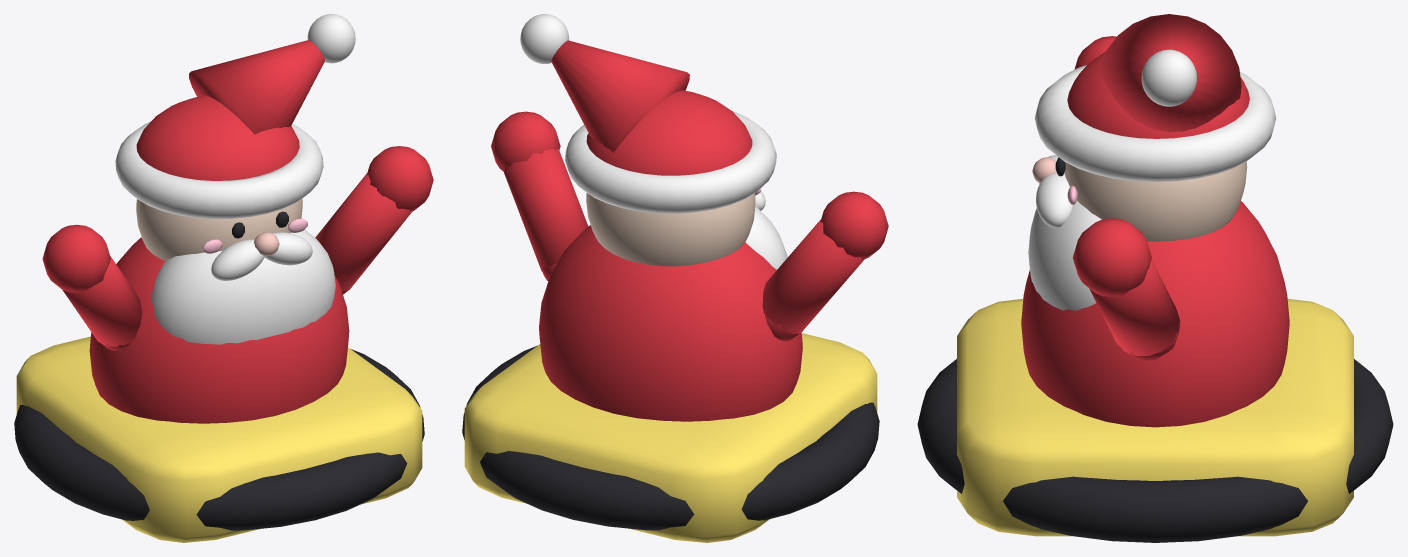
The model's file is bumper.glb.
The picture shows the model from 3 angles, left to right: view 1: azimuth 30°, elevation 25°; view 2: azimuth 150°, elevation 25°; view 3: azimuth 270°, elevation 25°; orthographic projection. The views are drawn at different scales.
Parts seen in each view (by area): view 1: bumper_red, bumper_yellow, bumper_white, bumper_black, bumper_skin; view 2: bumper_red, bumper_yellow, bumper_black, bumper_white, bumper_skin; view 3: bumper_red, bumper_yellow, bumper_black, bumper_white, bumper_skin.
Boxes of the visible parts, x1,y1,x2,y2 form: bumper_red: (42, 40, 433, 423); bumper_yellow: (16, 336, 422, 542); bumper_white: (115, 14, 355, 344); bumper_black: (14, 211, 424, 530); bumper_skin: (136, 198, 302, 260); bumper_red: (491, 40, 888, 421); bumper_yellow: (464, 333, 877, 542); bumper_black: (462, 345, 879, 530); bumper_white: (520, 14, 787, 269); bumper_skin: (586, 193, 755, 266); bumper_red: (1021, 14, 1289, 427); bumper_yellow: (957, 299, 1353, 536); bumper_black: (917, 157, 1393, 542); bumper_white: (1028, 49, 1276, 310); bumper_skin: (1064, 161, 1247, 241).
Bounding box in the file's own units: 2.96 × 3.16 × 2.76.
